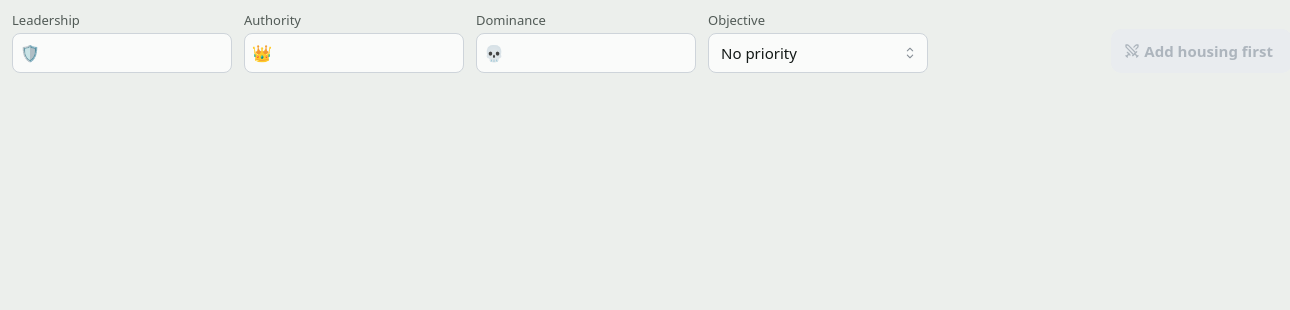
the objective is one select, and it writes the priority
The image size is (1290, 310).
Click the dropdown labelled "Objective". click: (818, 53)
box: [708,33,928,73]
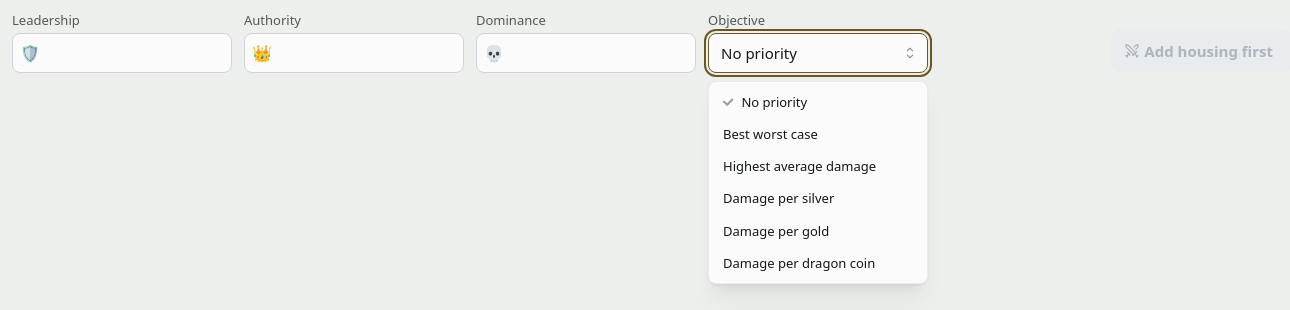
Click the option "Best worst case". click: (770, 134)
box: [723,125,818,143]
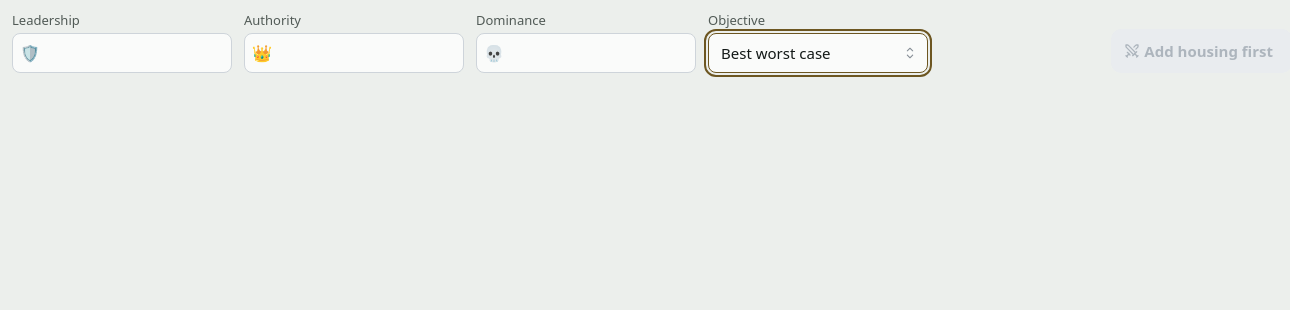
Check: the dropdown labelled "Objective" holds "Best worst case", box [708,33,928,73]
